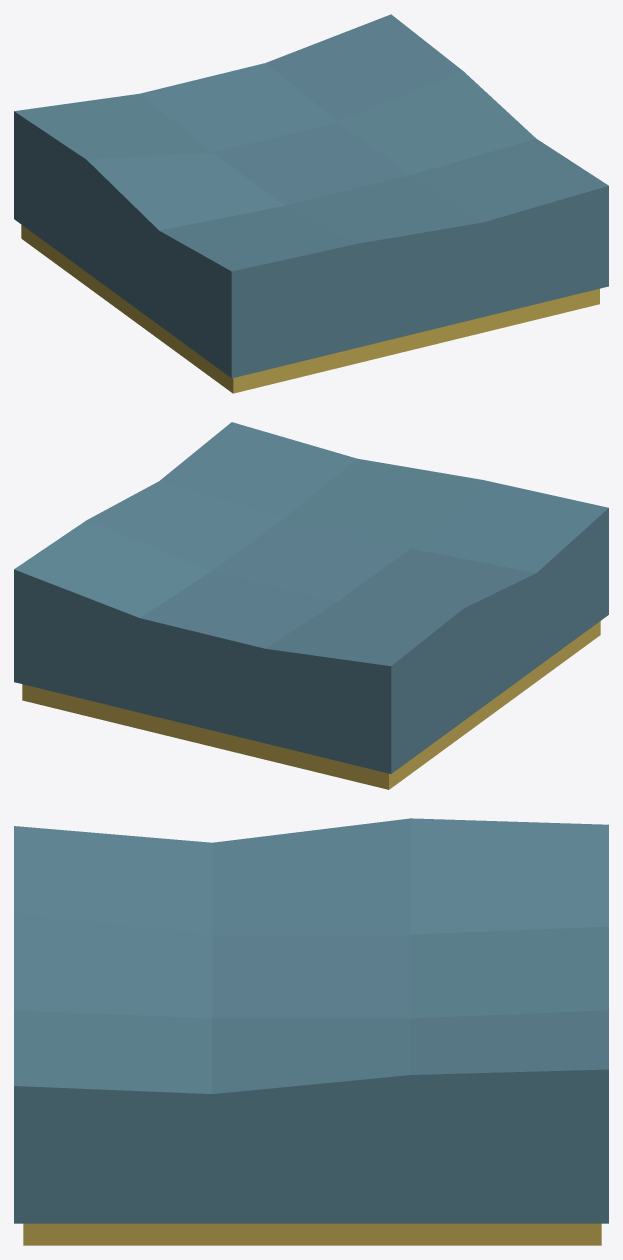
Rendered from world-sea.fbx.
3 renders of one model, top to bottom at view 1: azimuth 30°, elevation 25°; view 2: azimuth 150°, elevation 25°; view 3: azimuth 270°, elevation 25°, orthographic. The views are drawn at different scales.
Parts seen in each view (by area): view 1: world-sea_01; view 2: world-sea_01; view 3: world-sea_01.
Boxes of the visible parts, x1,y1,x2,y2 form: world-sea_01: (14,14,608,393); world-sea_01: (14,422,608,789); world-sea_01: (14,818,608,1245).
Size of the model in its own units: 19.68 by 19.68 by 6.56.
